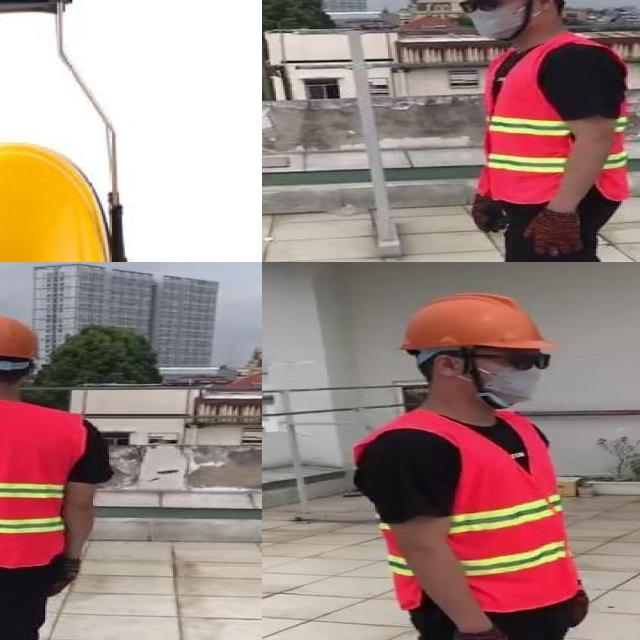Ear-protection: (0, 0, 132, 262)
No_Ear-Protection: (430, 352, 466, 384)
face_mask: (459, 0, 525, 38)
glasses: (453, 0, 510, 14)
hand_glove: (522, 209, 584, 255), (472, 201, 507, 235), (50, 559, 77, 598)
head_helmet: (396, 293, 549, 350), (0, 312, 40, 363)
person: (319, 292, 631, 640), (438, 0, 639, 262), (0, 312, 120, 640)
vest: (350, 408, 580, 611), (477, 40, 637, 201), (0, 398, 82, 566)
